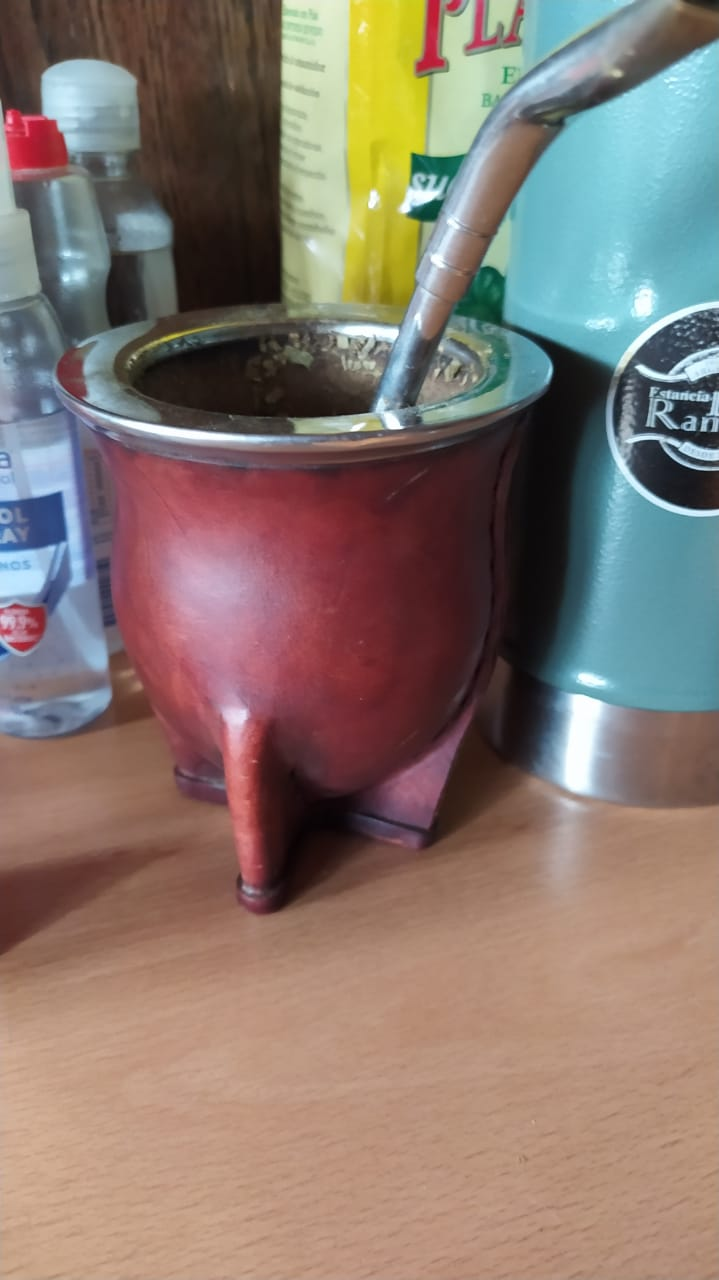madera: (51, 1, 719, 936)
mate: (49, 1, 717, 936)
